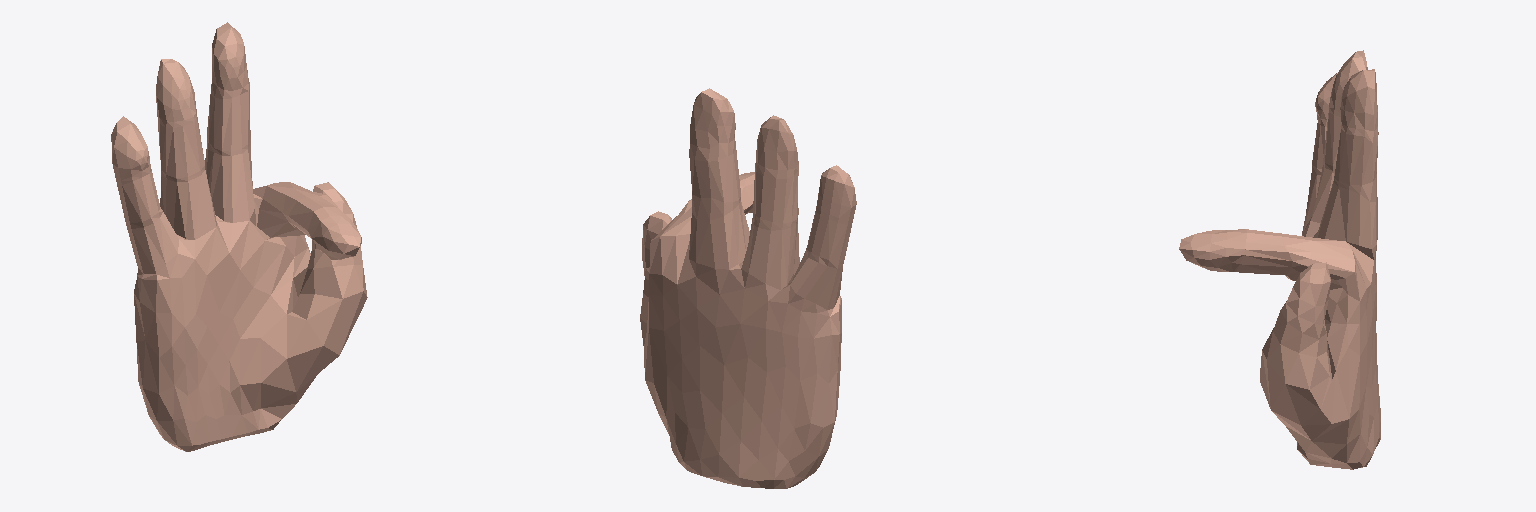
The model's file is MAO_F.obj.
3 views of the same model, side by side, from view 1: azimuth 30°, elevation 25°; view 2: azimuth 150°, elevation 25°; view 3: azimuth 270°, elevation 25° (orthographic).
Parts seen in each view (by area): view 1: mao_dir:mao_dir; view 2: mao_dir:mao_dir; view 3: mao_dir:mao_dir.
Boxes of the visible parts, x1,y1,x2,y2 form: mao_dir:mao_dir: [111, 22, 367, 451]; mao_dir:mao_dir: [640, 88, 856, 488]; mao_dir:mao_dir: [1179, 50, 1380, 469].
Size of the model in its own units: 150 by 243 by 115.